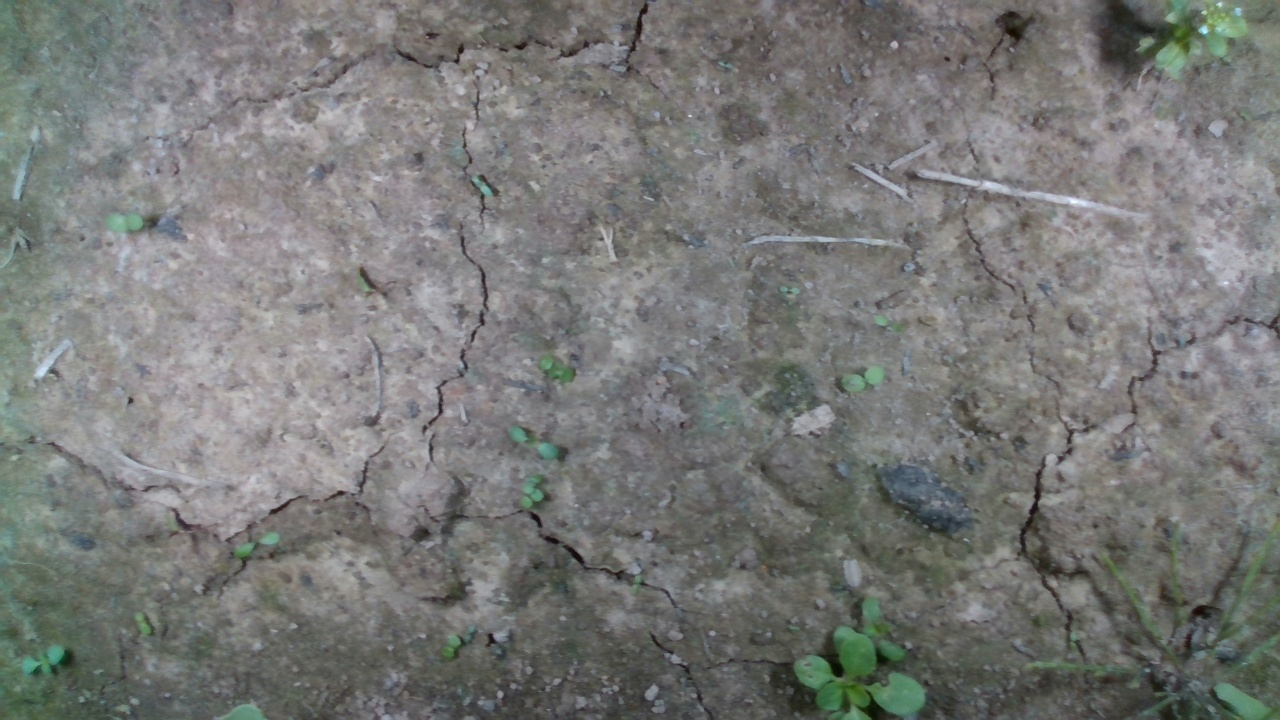weed: (499, 425, 564, 463), (835, 362, 899, 399), (506, 477, 555, 511), (463, 169, 503, 204), (533, 351, 574, 385)
